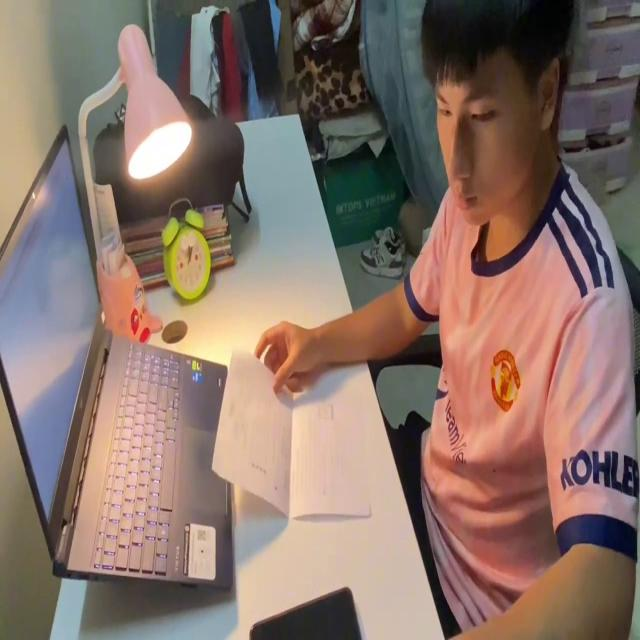book: (212, 336, 374, 522)
laptop: (0, 117, 237, 595)
student: (249, 0, 640, 640)
